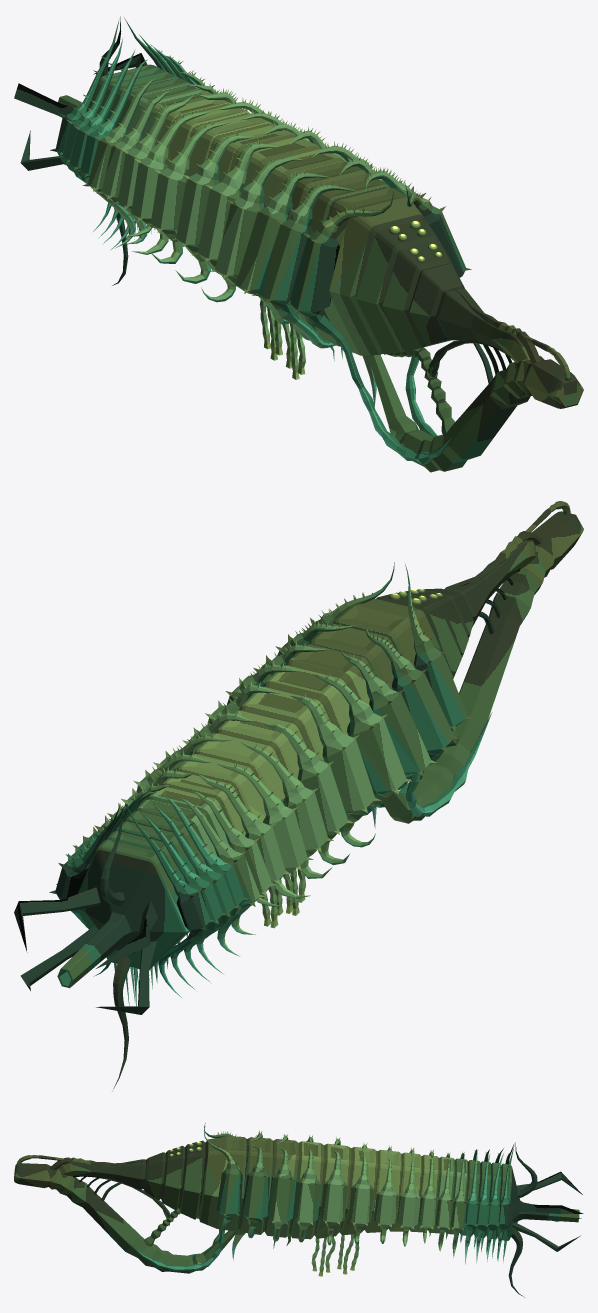
File: remake_409.glb
3 renders of one model, top to bottom at view 1: azimuth 30°, elevation 25°; view 2: azimuth 150°, elevation 25°; view 3: azimuth 270°, elevation 25°, orthographic. The views are drawn at different scales.
Parts seen in each view (by area): view 1: remake_409; view 2: remake_409; view 3: remake_409.
Part boxes in pixels (bbox=[...]): remake_409: bbox=[14, 16, 583, 472]; remake_409: bbox=[14, 501, 583, 1091]; remake_409: bbox=[14, 1123, 583, 1297].
Bounding box in the file's own units: 0.4111 × 0.6379 × 1.86.
Materials: 2 (1 with a texture image).
